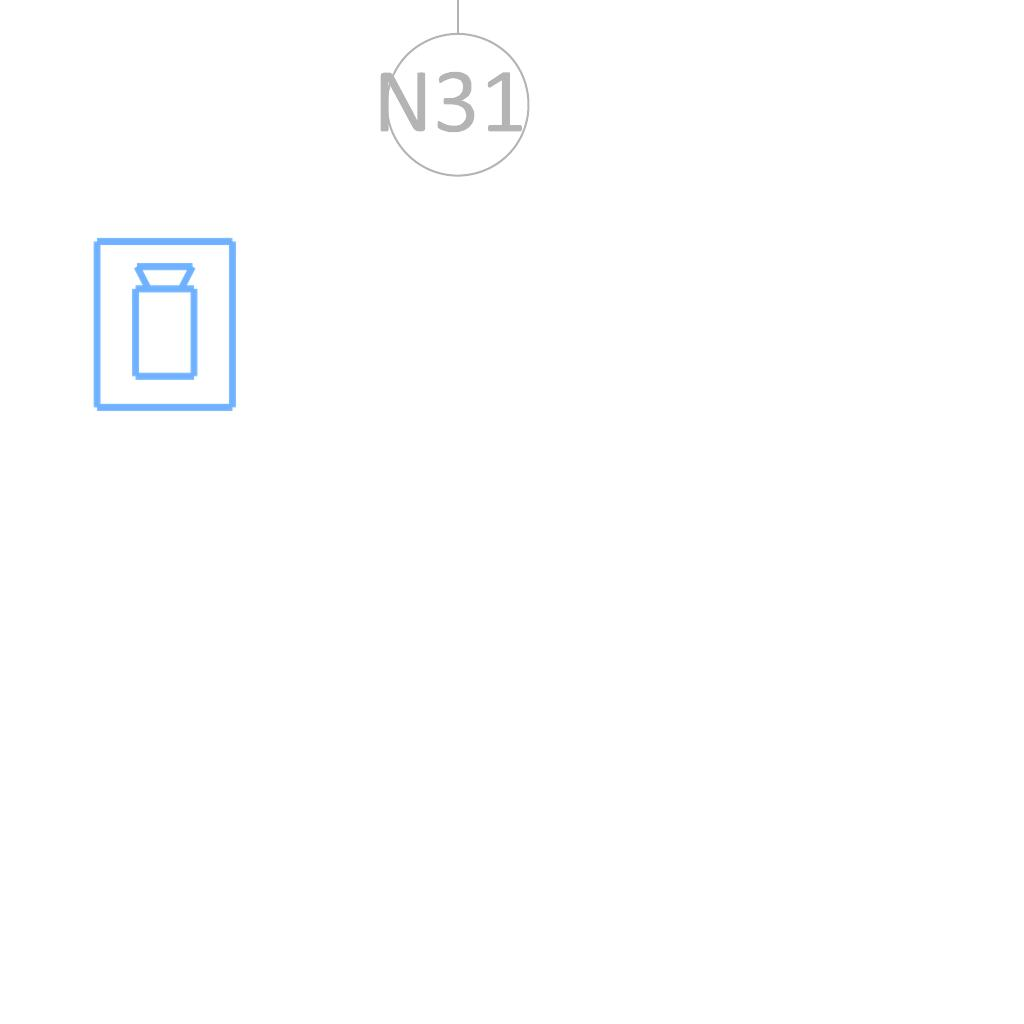KFO_Kamera_mit_Festobjektiv: (89, 234, 243, 416)
